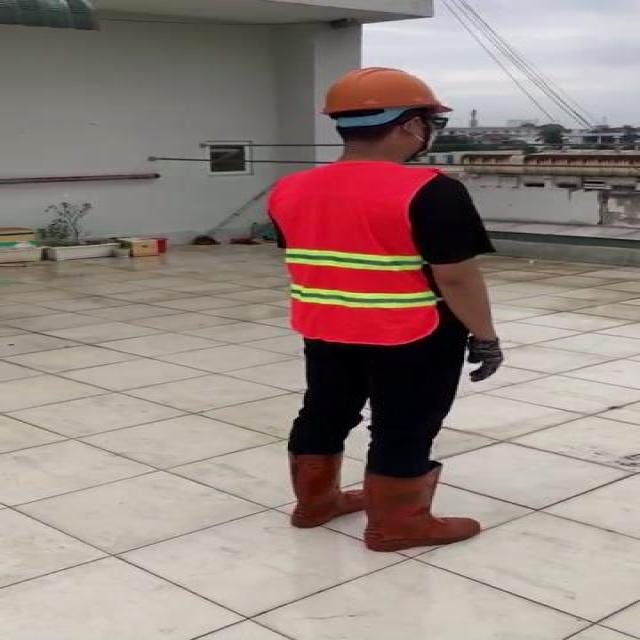boots: (361, 466, 476, 554), (284, 449, 372, 529)
hand_glove: (464, 337, 507, 384)
head_helmet: (321, 64, 456, 116)
person: (262, 61, 516, 558)
vest: (268, 161, 457, 347)
